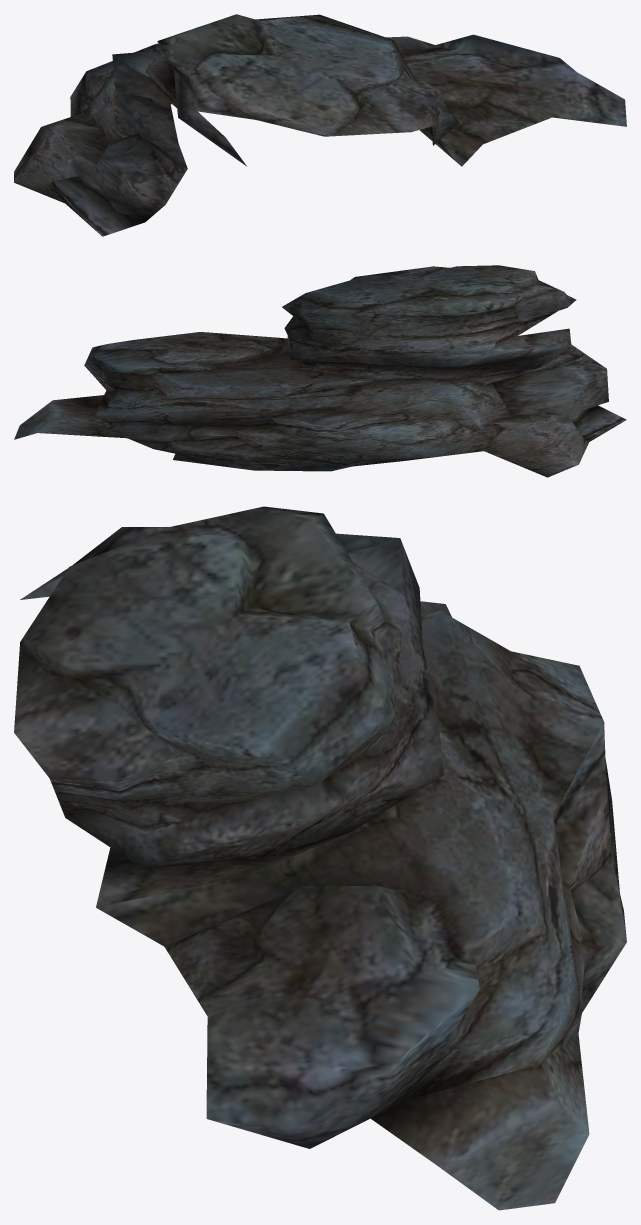
The model's file is S_Rock_Yellow034_H41.FBX.
3 renders of one model, top to bottom at view 1: azimuth 30°, elevation 25°; view 2: azimuth 150°, elevation 25°; view 3: azimuth 270°, elevation 25°, orthographic. The views are drawn at different scales.
Visible parts, largest first — view 1: S_Rock_Yellow034_H41; view 2: S_Rock_Yellow034_H41; view 3: S_Rock_Yellow034_H41.
Part boxes in pixels (bbox=[...]): S_Rock_Yellow034_H41: bbox=[14, 14, 626, 236]; S_Rock_Yellow034_H41: bbox=[14, 265, 626, 477]; S_Rock_Yellow034_H41: bbox=[14, 506, 626, 1210].
Bounding box in the file's own units: 1223 × 680 × 410.
1 material, 1 textured.
